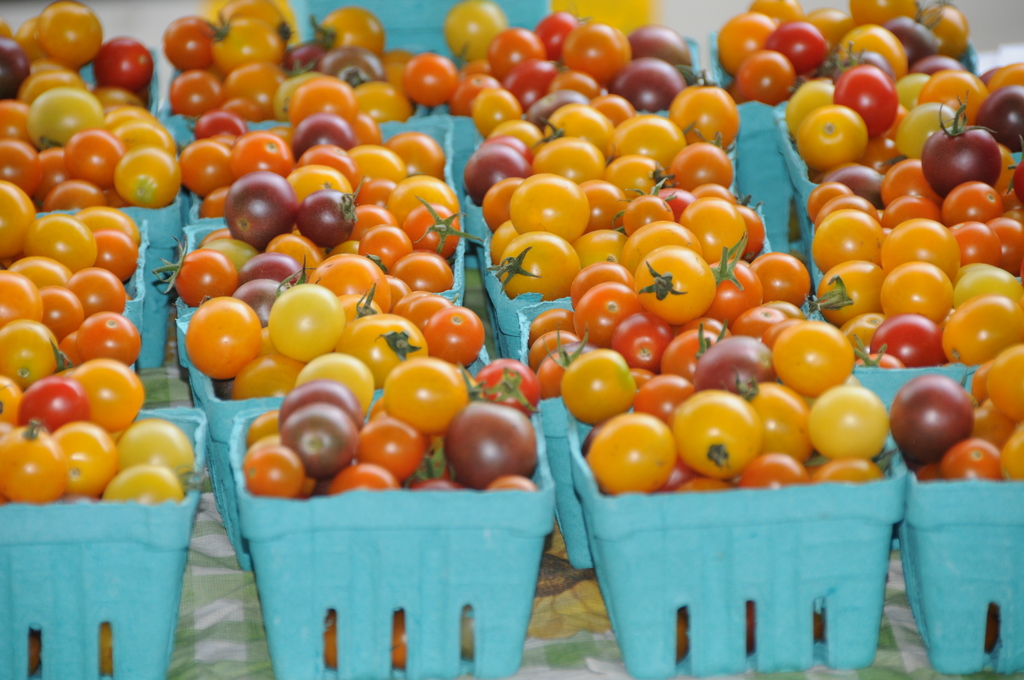Tomato: (0, 0, 1023, 492)
